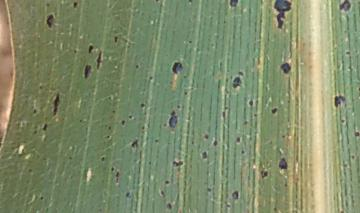tarspot: (273, 1, 291, 30), (168, 110, 179, 130), (52, 93, 61, 117), (333, 94, 346, 109), (171, 61, 184, 75), (45, 13, 55, 30), (279, 61, 291, 75), (231, 75, 242, 90), (338, 1, 352, 12), (95, 49, 102, 71), (278, 157, 288, 172), (83, 64, 92, 79), (259, 168, 269, 180), (171, 159, 184, 168), (230, 189, 241, 199), (228, 1, 239, 9), (220, 110, 227, 122), (130, 139, 139, 148), (200, 150, 208, 160), (270, 106, 278, 115), (247, 98, 255, 107), (165, 202, 173, 211), (212, 138, 219, 148), (31, 106, 38, 116), (283, 177, 289, 188), (352, 130, 360, 138), (202, 133, 210, 141), (104, 133, 112, 141), (71, 47, 79, 55), (87, 45, 93, 55), (163, 179, 171, 186), (125, 191, 132, 199), (26, 167, 34, 174), (43, 1, 51, 8), (235, 135, 241, 144), (120, 118, 126, 127), (160, 189, 166, 198), (139, 102, 146, 109), (242, 120, 249, 127), (342, 162, 349, 169), (205, 186, 212, 193), (237, 69, 244, 76), (32, 129, 39, 136), (271, 205, 278, 212), (72, 1, 78, 9), (113, 35, 119, 43), (42, 123, 48, 131), (225, 202, 231, 210), (114, 169, 120, 177), (344, 50, 351, 56), (127, 114, 134, 120), (147, 75, 154, 81), (187, 38, 193, 45), (37, 84, 44, 90), (106, 95, 112, 102), (139, 124, 146, 130), (350, 153, 355, 161), (100, 156, 106, 162), (153, 137, 159, 143), (280, 133, 286, 139), (106, 125, 112, 131), (175, 104, 181, 110), (110, 165, 115, 172), (134, 63, 139, 70), (147, 159, 152, 166), (357, 86, 360, 97), (339, 118, 345, 123), (240, 148, 245, 154), (183, 90, 188, 96), (39, 195, 44, 201), (110, 109, 116, 114), (77, 118, 83, 123), (115, 177, 119, 184), (338, 209, 345, 213), (252, 112, 257, 117), (187, 1, 192, 4), (154, 1, 158, 4)
